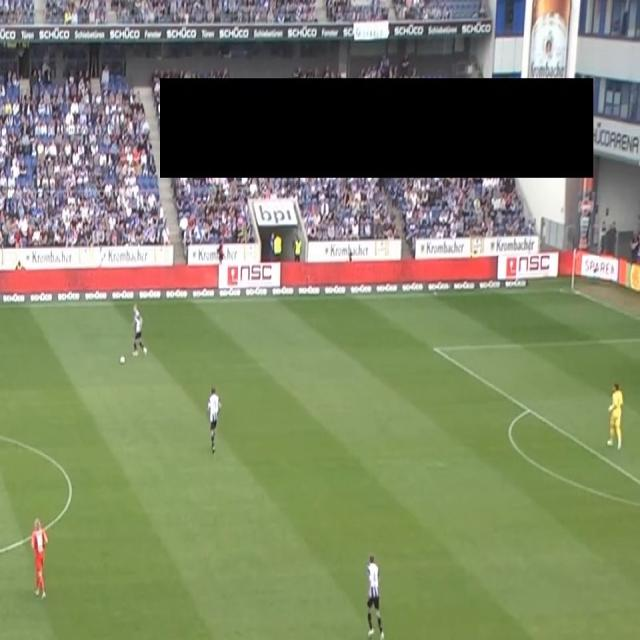ball: (119, 353, 126, 366)
